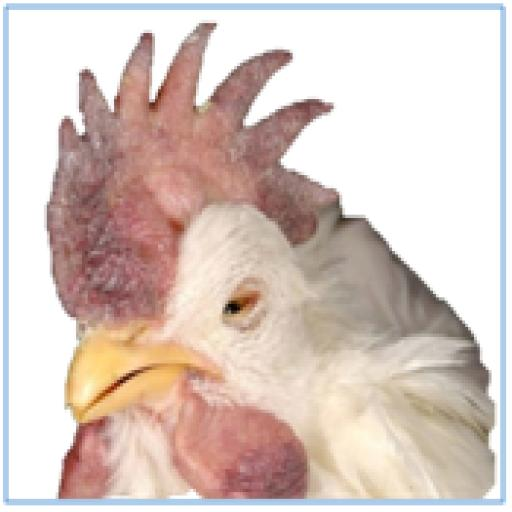disease: (48, 170, 139, 328), (203, 264, 279, 349)
